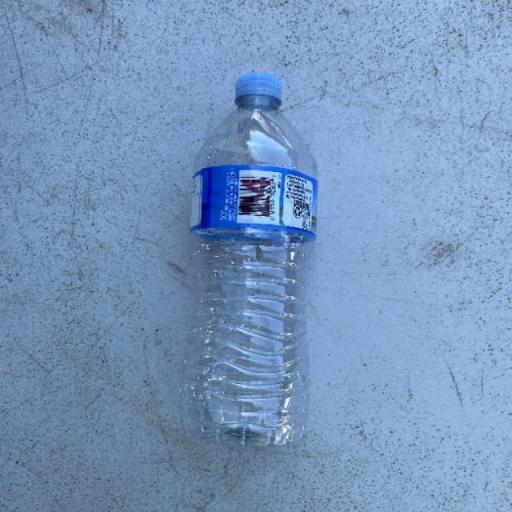plastic: (178, 70, 318, 448)
